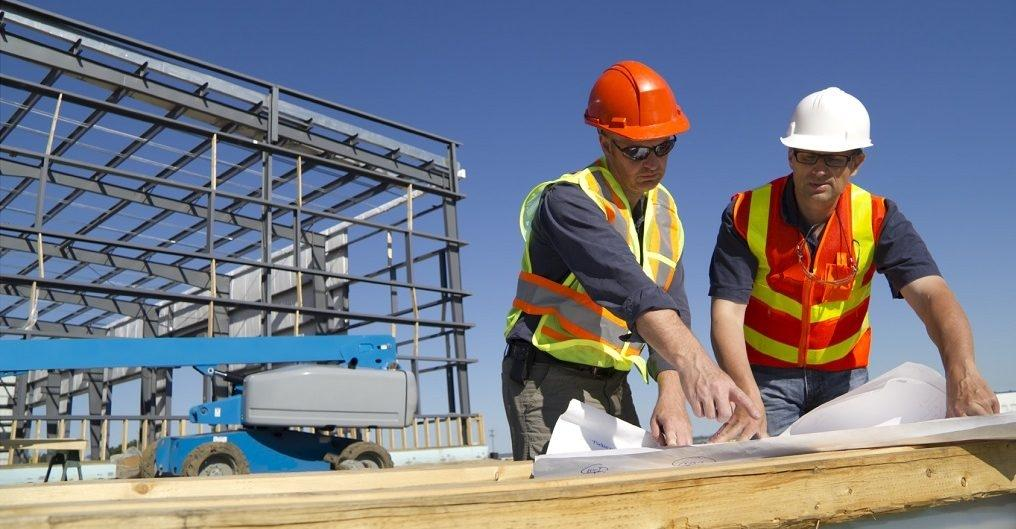helmet: (585, 60, 692, 143), (779, 83, 878, 155)
wear: (527, 194, 678, 362), (735, 198, 872, 365)
